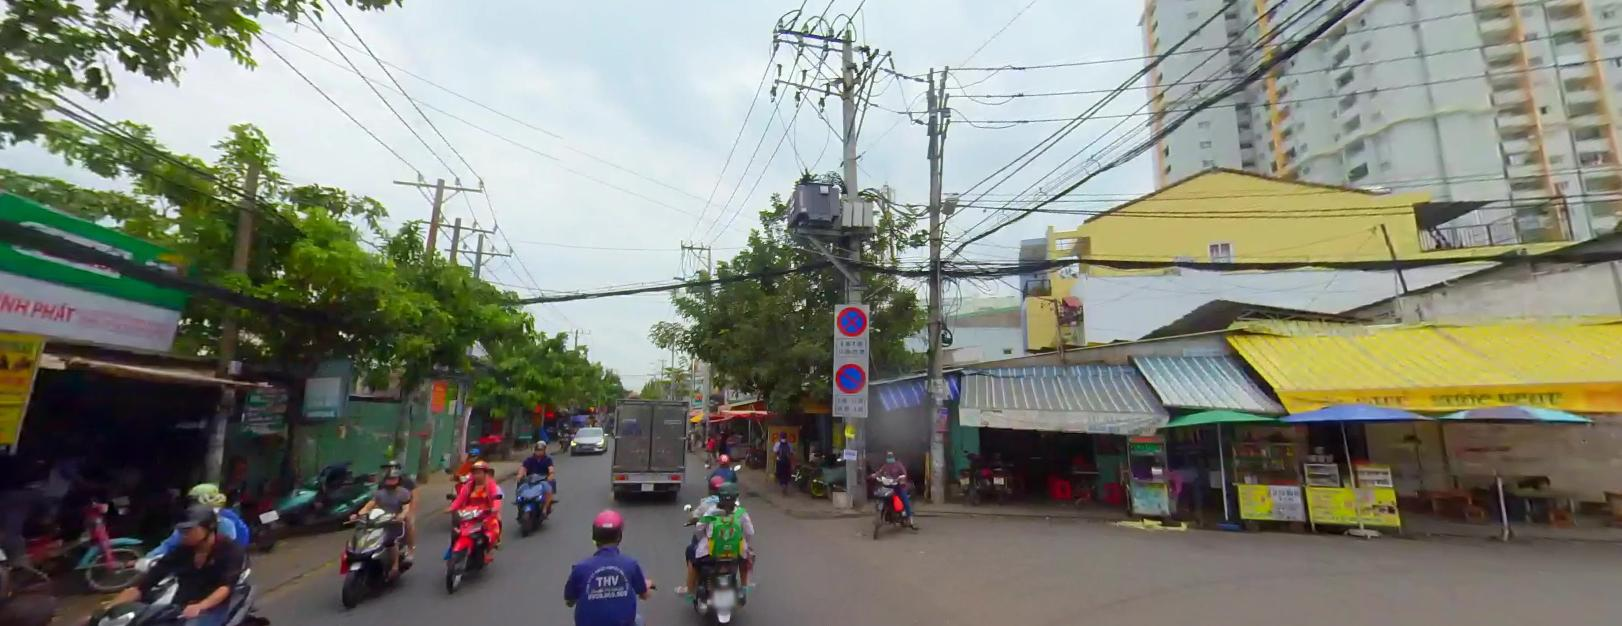Cam dung va do: (836, 360, 866, 393), (835, 304, 866, 334)
